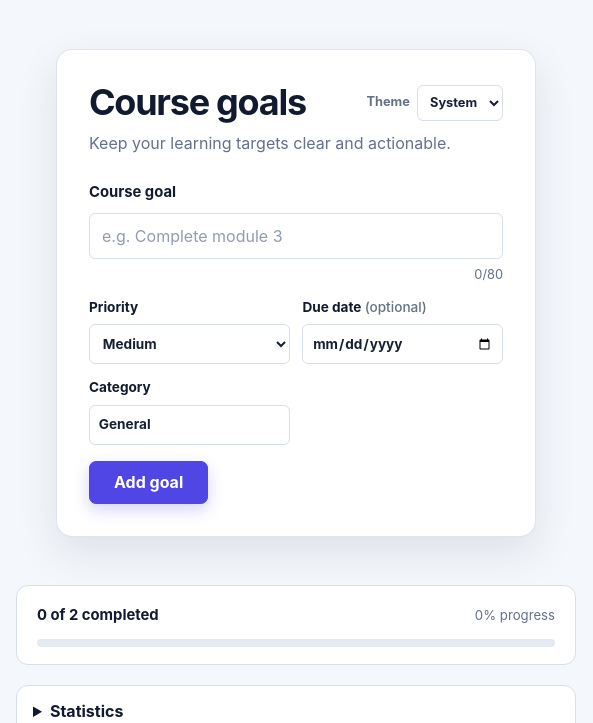
it: Course Goals › adds a new goal and persists it
Type "Review TypeScript notes" into the field with placeholder "e.g. Complete module 3" at {"x": 296, "y": 236}, box [89,213,503,260]
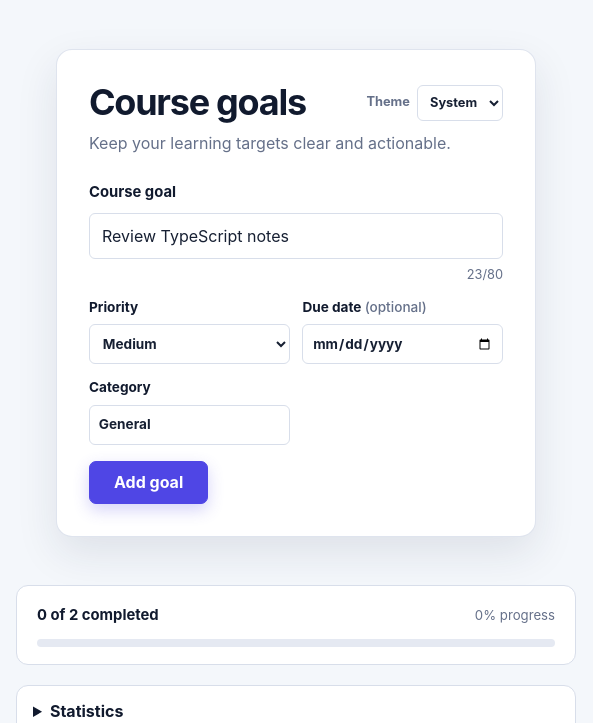
Click the button "Add goal" at {"x": 149, "y": 482}, box [89,460,208,504]
(page scrolled)
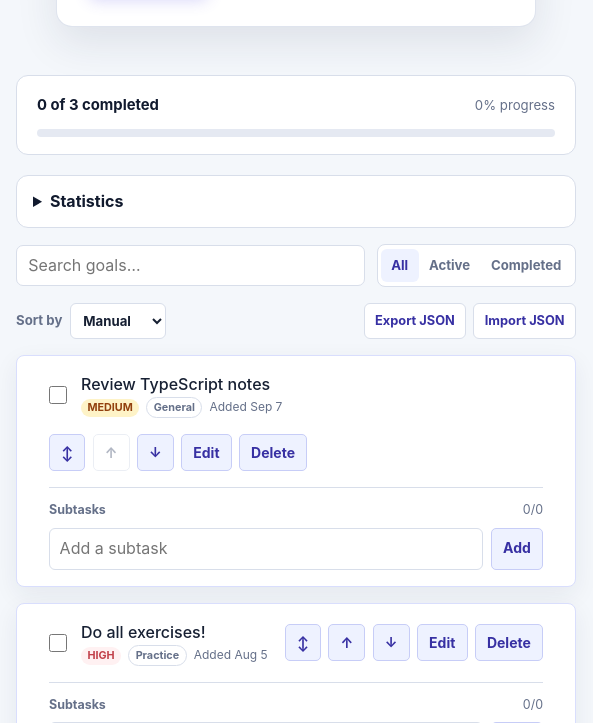
Expected: the text "Review TypeScript notes" is shown, [81,372,282,397]
